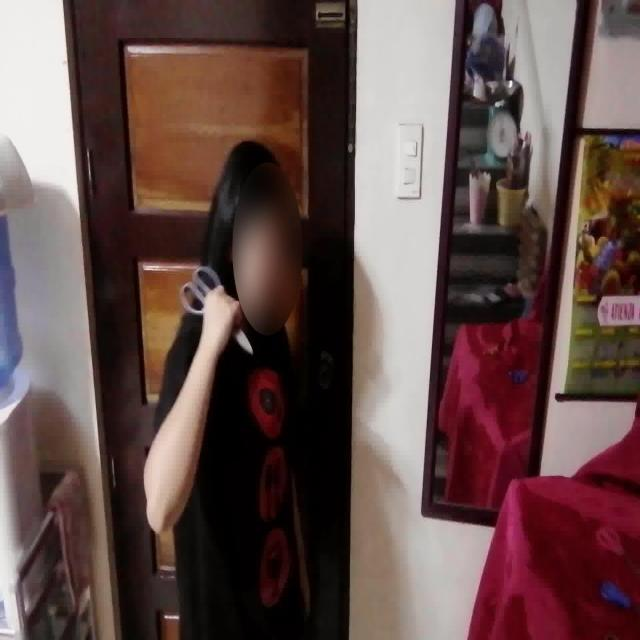scissor: (179, 262, 254, 356)
